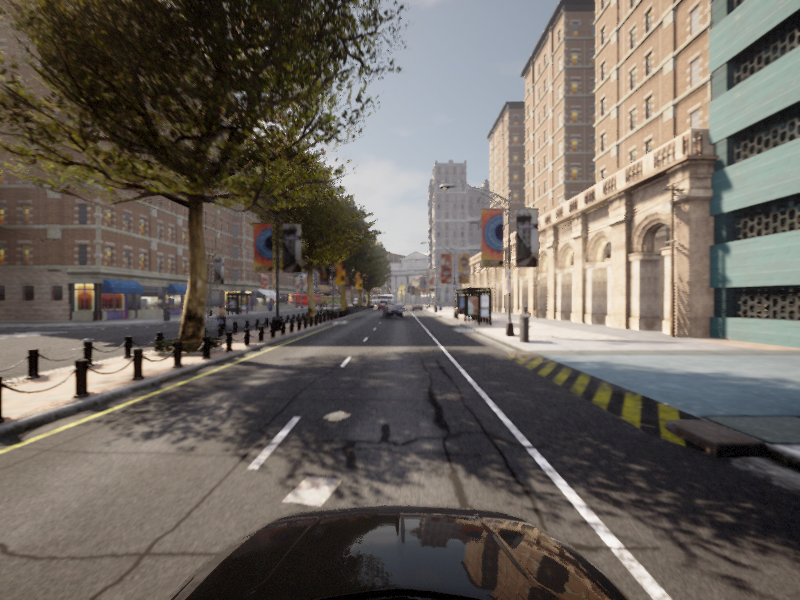vehicle: (208, 305, 232, 332), (174, 304, 203, 326), (381, 305, 403, 318)
